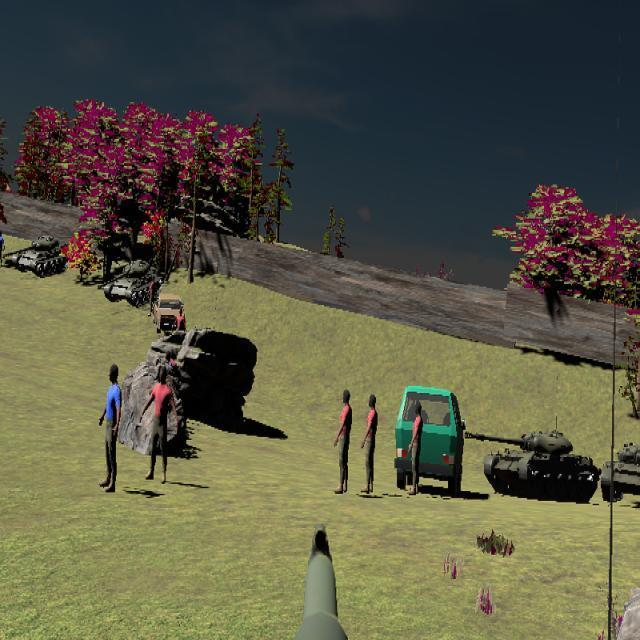Human: (140, 365, 179, 483), (97, 363, 122, 493), (98, 363, 122, 492), (333, 388, 352, 494), (333, 389, 352, 494), (406, 396, 424, 504), (360, 392, 378, 493)
Tank: (465, 428, 602, 503), (103, 257, 163, 308), (3, 235, 68, 279), (600, 440, 640, 505)
car: (394, 385, 465, 494)
